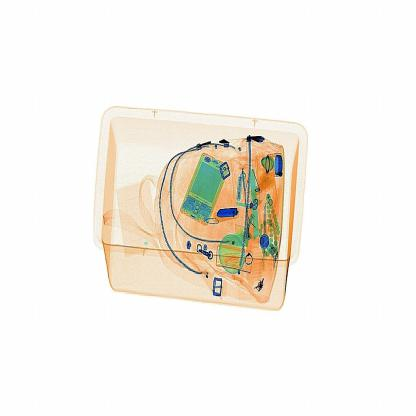wrench: (203, 201, 246, 229)
